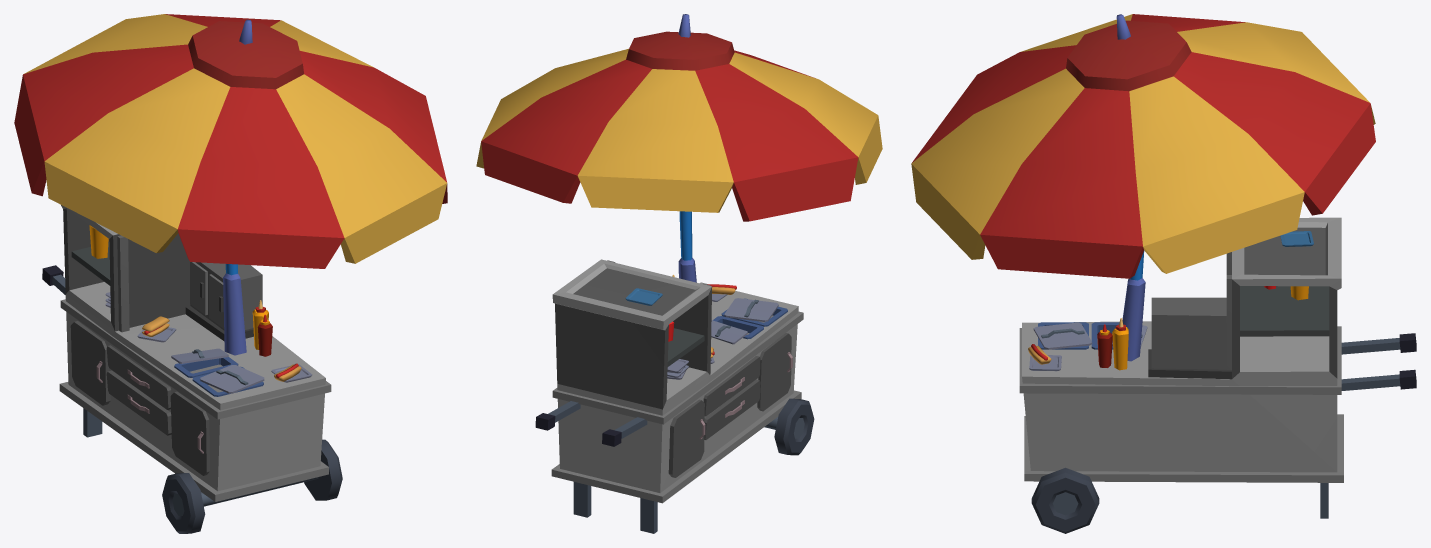
File: FoodCart_1_E.fbx
The picture shows the model from 3 angles, left to right: view 1: azimuth 30°, elevation 25°; view 2: azimuth 150°, elevation 25°; view 3: azimuth 270°, elevation 25°; orthographic projection. The views are drawn at different scales.
Visible parts, largest first — view 1: FoodCart_1_E; view 2: FoodCart_1_E; view 3: FoodCart_1_E.
Boxes of the visible parts, x1,y1,x2,y2 form: FoodCart_1_E: (14,14,447,533); FoodCart_1_E: (476,14,882,533); FoodCart_1_E: (911,14,1416,533).
Bounding box in the file's own units: 244 × 285 × 265.
